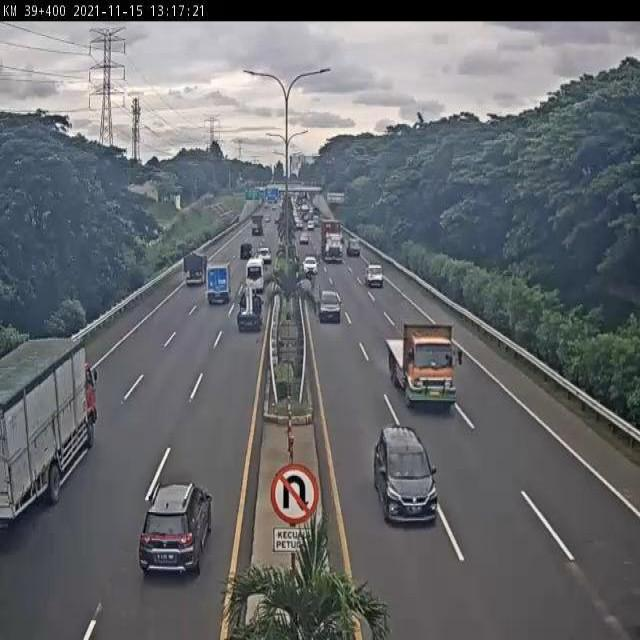big truck: (379, 312, 470, 412), (319, 217, 346, 268)
bus-s-: (243, 256, 265, 293)
car: (373, 424, 446, 533), (138, 482, 214, 578), (317, 285, 344, 324), (365, 262, 386, 290), (302, 254, 319, 274)
truck-m-: (0, 339, 97, 520)
truck-s-: (234, 289, 265, 335), (203, 265, 229, 311), (180, 248, 209, 289)
